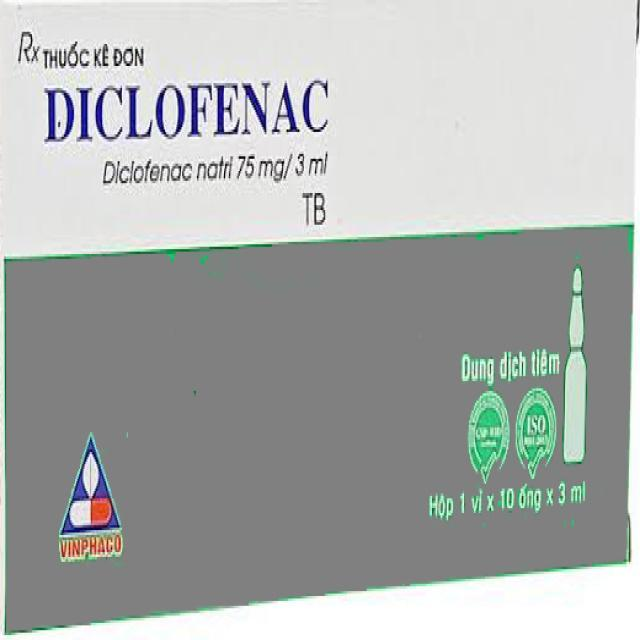drug-name: (34, 74, 332, 139)
